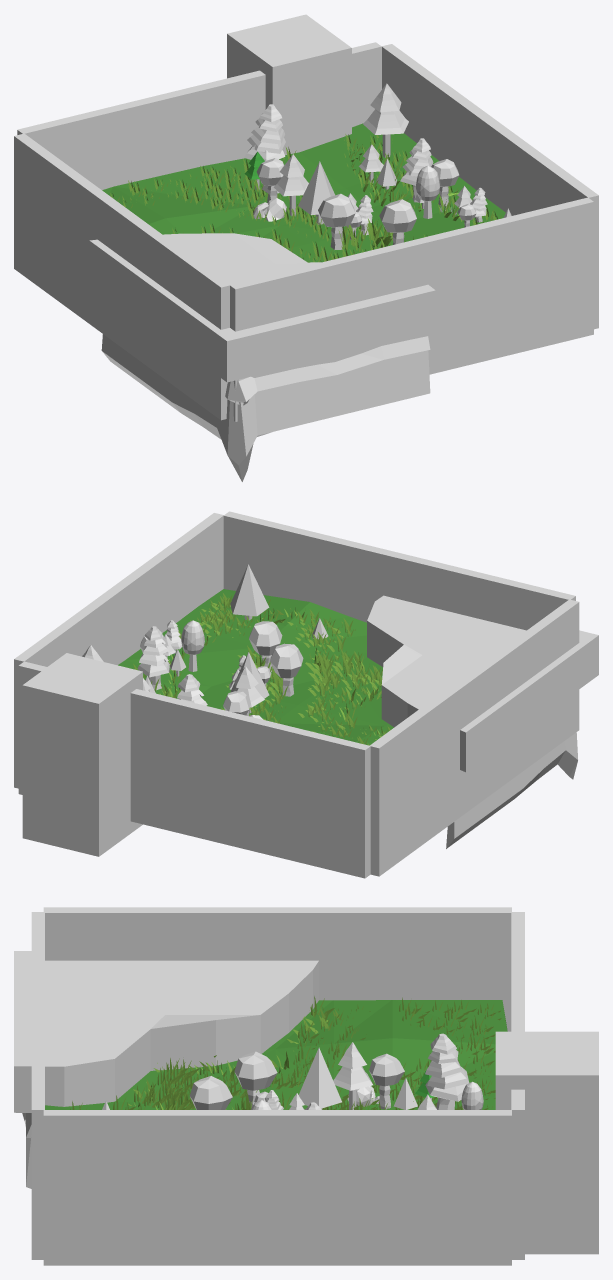
File: green path 03.fbx
3 renders of one model, top to bottom at view 1: azimuth 30°, elevation 25°; view 2: azimuth 150°, elevation 25°; view 3: azimuth 270°, elevation 25°, orthographic. The views are drawn at different scales.
Visible parts, largest first — view 1: wall, water bool, groud2, water wall, door bool, water, Cone009, Sphere002, Sphere002.001, Cone004.001, Sphere004; view 2: wall, door bool, water bool, groud2, water wall, Cone009.001, Sphere002, Sphere002.001, Sphere004, Sphere001; view 3: wall, water bool, door bool, groud2, Cone009, Sphere002, water wall, Sphere002.001, Sphere001, Cone004, Sphere005, Cone018.
Part boxes in pixels (x1,y1,x2,y2): wall: (14, 42, 598, 421); water bool: (89, 233, 435, 382); groud2: (102, 123, 505, 262); water wall: (101, 261, 430, 481); door bool: (227, 14, 351, 155); water: (225, 336, 430, 405); Cone009: (298, 161, 334, 215); Sphere002: (318, 193, 355, 227); Sphere002.001: (379, 199, 416, 232); Cone004.001: (363, 109, 408, 134); Sphere004: (415, 165, 439, 201); wall: (14, 511, 579, 878); door bool: (22, 653, 142, 856); water bool: (367, 595, 598, 772); groud2: (118, 589, 393, 745); water wall: (403, 644, 577, 848); Cone009.001: (230, 564, 269, 616); Sphere002: (270, 643, 303, 678); Sphere002.001: (249, 621, 282, 655); Sphere004: (181, 620, 204, 654); Sphere001: (223, 691, 250, 715); wall: (31, 907, 524, 1265); water bool: (14, 951, 318, 1112); door bool: (495, 1031, 598, 1254); groud2: (45, 1000, 507, 1109); Cone009: (299, 1047, 341, 1108); Sphere002: (234, 1051, 277, 1090); water wall: (22, 1015, 167, 1188); Sphere002.001: (189, 1076, 232, 1109); Sphere001: (369, 1053, 404, 1086); Cone004: (333, 1066, 372, 1090); Sphere005: (461, 1081, 483, 1109); Cone018: (427, 1067, 469, 1089).
Size of the model in its own units: 14817 by 7562 by 17241.
